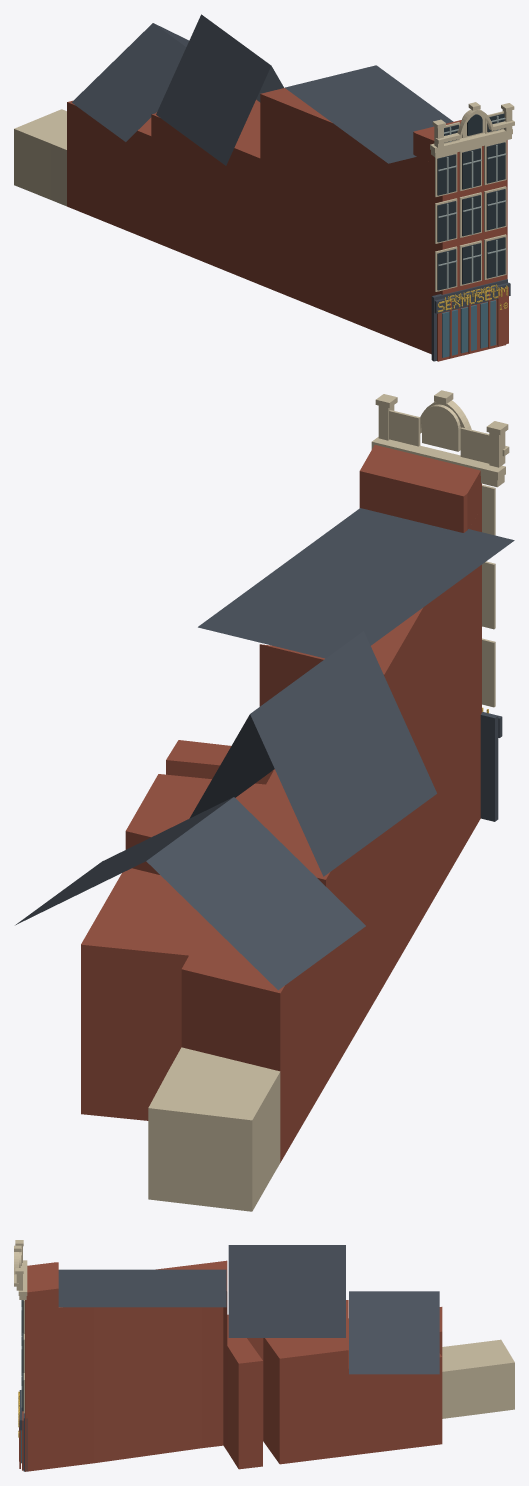
File: sexmuseum-venustempel.glb
3 views of the same model, one above another, from view 1: azimuth 30°, elevation 25°; view 2: azimuth 150°, elevation 25°; view 3: azimuth 270°, elevation 25° (orthographic). The views are drawn at different scales.
Visible parts, largest first — view 1: sexmuseum-venustempel; view 2: sexmuseum-venustempel; view 3: sexmuseum-venustempel.
Boxes of the visible parts, x1,y1,x2,y2 form: sexmuseum-venustempel: (14,14,514,361); sexmuseum-venustempel: (15,390,514,1211); sexmuseum-venustempel: (14,1240,514,1471).
Size of the model in its own units: 15.99 by 18.22 by 39.52.
